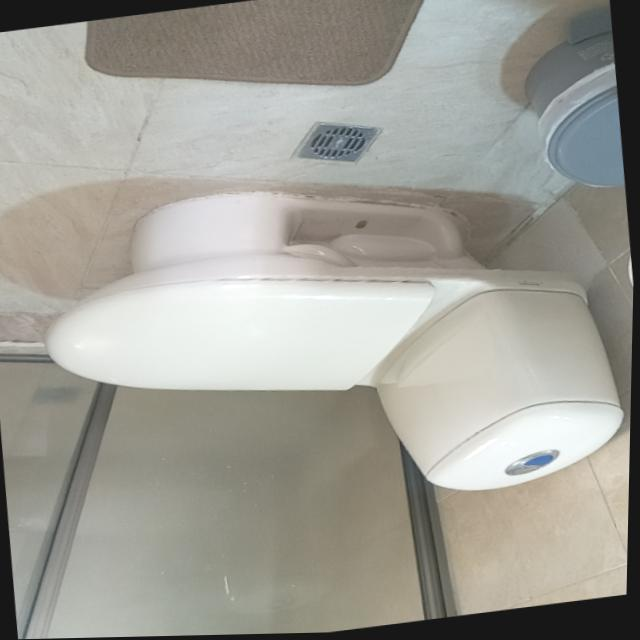toilet: (27, 146, 636, 547)
